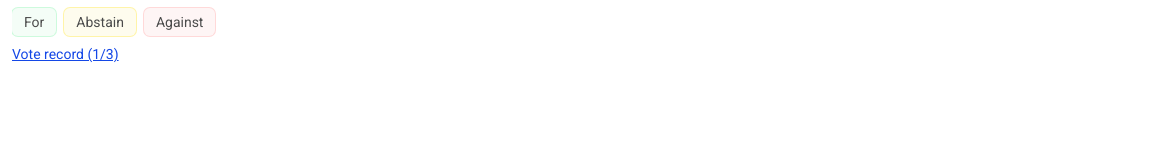
Scenario: SubmissionVotingPanel › lists every organizer with their vote, incl. "Not voted"
This screenshot has width=1164, height=163.
Click the button "Vote record (1/3)" at (65, 54), box top-left (12, 44), bottom-right (119, 64)
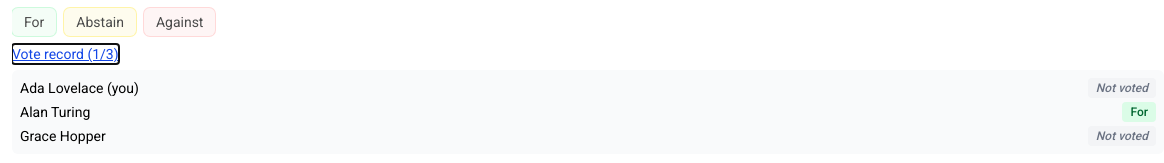
Result: the number of list items is 3 at top-left (20, 78), bottom-right (1156, 98); top-left (20, 102), bottom-right (1156, 122); top-left (20, 126), bottom-right (1156, 146)
Result: the text "For" is shown at top-left (1122, 102), bottom-right (1156, 122)
Result: the text "Not voted" is shown 2 times at top-left (1088, 78), bottom-right (1156, 98); top-left (1088, 126), bottom-right (1156, 146)
